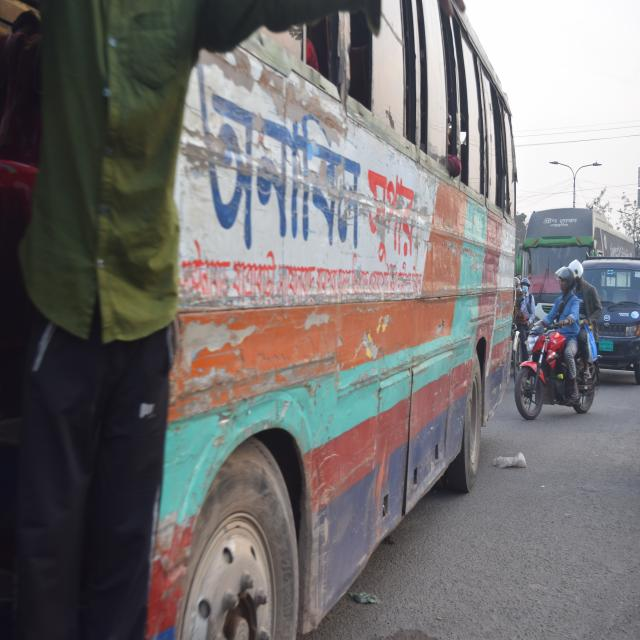bus: (0, 0, 519, 640)
microbus: (584, 255, 640, 371)
motorbike: (516, 292, 598, 436)
